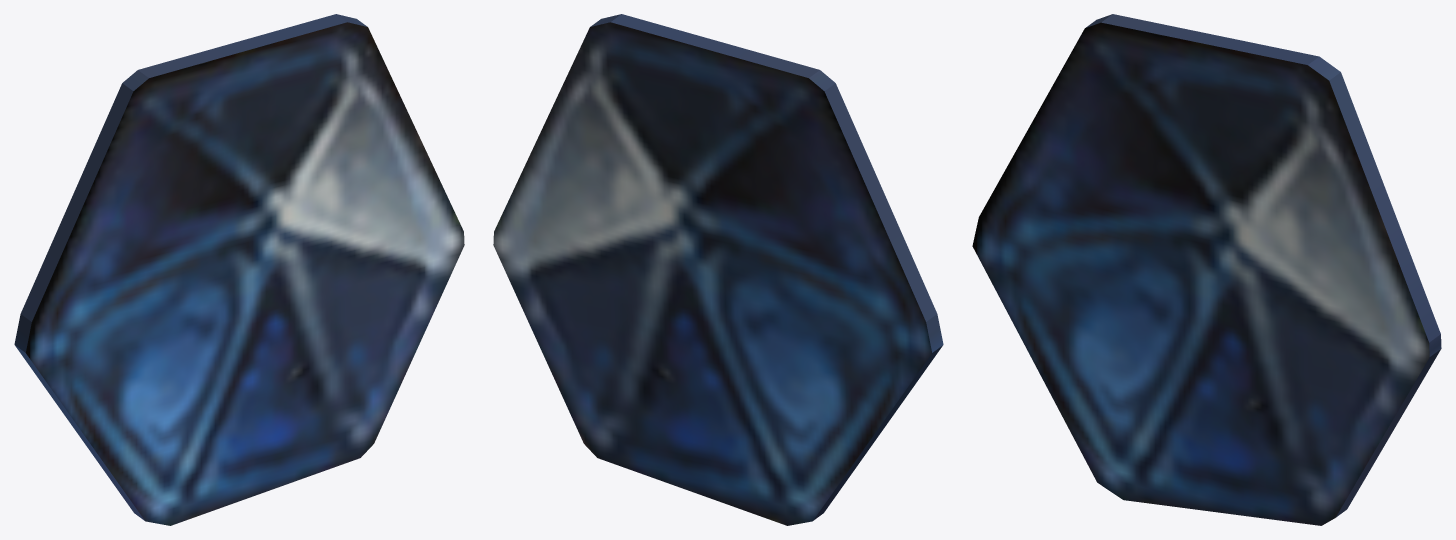
The model's file is Mana.glb.
3 renders of one model, left to right at view 1: azimuth 30°, elevation 25°; view 2: azimuth 150°, elevation 25°; view 3: azimuth 330°, elevation 25°, orthographic. The views are drawn at different scales.
Visible parts, largest first — view 1: Circle.001; view 2: Circle.001; view 3: Circle.001.
Boxes of the visible parts, x1=… form: Circle.001: x1=14, y1=14, x2=464, y2=525; Circle.001: x1=493, y1=14, x2=943, y2=525; Circle.001: x1=972, y1=14, x2=1441, y2=525.
Bounding box in the file's own units: 0.8072 × 0.8095 × 0.036.
1 material, 1 textured.
